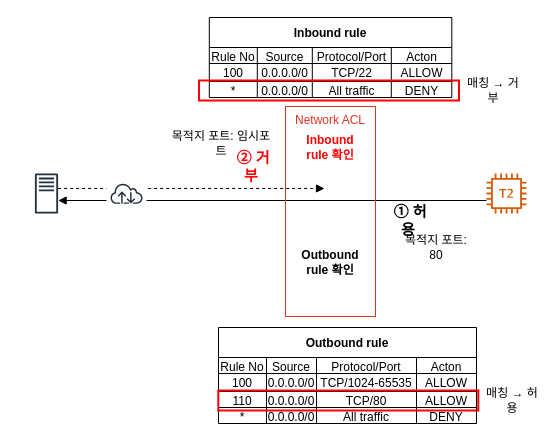
Some shapes in this 560 by 441 pixel diagram are drawn without their labels. The shapes that lost their labels are listed below. From the top down, each one's centre as x and y in pixels, then its label:
(x=46, y=193): 외부 웹서버
(x=126, y=193): Internet
